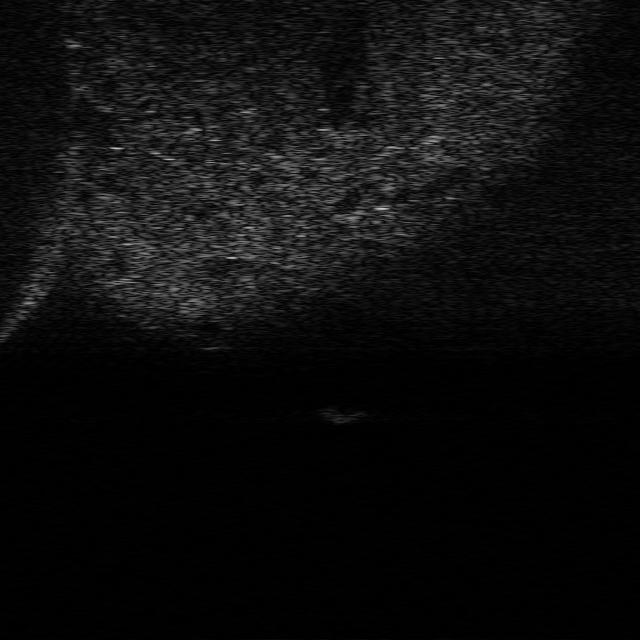cube: (313, 398, 367, 426)
